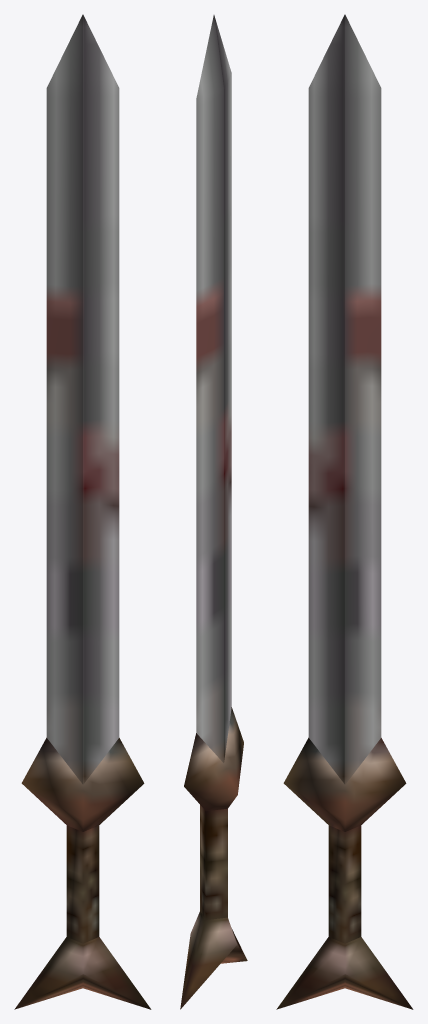
File: sword_celtic_long.glb
3 views of the same model, side by side, from view 1: azimuth 90°, elevation 25°; view 2: azimuth 150°, elevation 25°; view 3: azimuth 270°, elevation 25° (orthographic). The views are drawn at different scales.
Visible parts, largest first — view 1: WeaponR; view 2: WeaponR; view 3: WeaponR.
Part boxes in pixels (x1,y1,x2,y2): WeaponR: [14, 14, 151, 1009]; WeaponR: [180, 15, 247, 1009]; WeaponR: [276, 14, 413, 1009].
Bounding box in the file's own units: 0.0489 × 0.9552 × 0.1195.
1 material, 1 textured.
